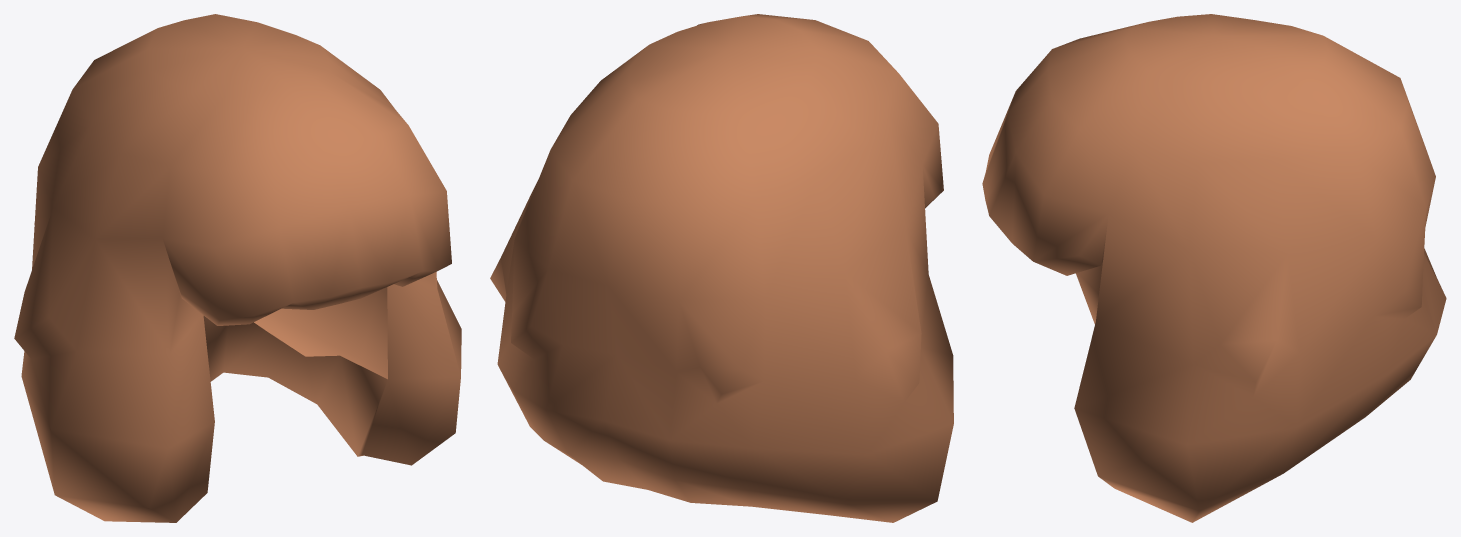
Rendered from PoofyBangsShort.fbx.
3 renders of one model, left to right at view 1: azimuth 30°, elevation 25°; view 2: azimuth 150°, elevation 25°; view 3: azimuth 270°, elevation 25°, orthographic. The views are drawn at different scales.
Visible parts, largest first — view 1: 03 Hair - Poofy Bans short; view 2: 03 Hair - Poofy Bans short; view 3: 03 Hair - Poofy Bans short.
Boxes of the visible parts, bbox=[...] form: 03 Hair - Poofy Bans short: bbox=[14, 14, 461, 522]; 03 Hair - Poofy Bans short: bbox=[490, 14, 953, 522]; 03 Hair - Poofy Bans short: bbox=[982, 14, 1446, 522].
Size of the model in its own units: 0.3154 by 0.3116 by 0.315.
